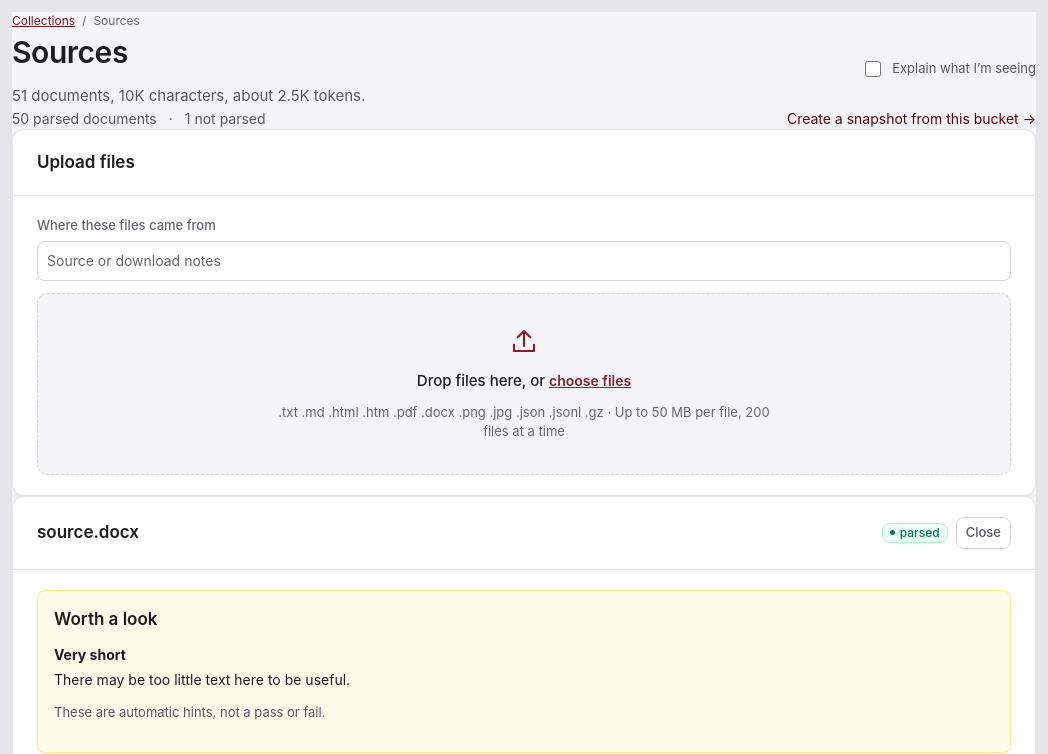
Test case: keeps counted zeroes visible and explains a quality flag
Expected: the text "There may be too little text here to be useful." is shown, [54, 671, 350, 688]
Click the checkbox labelled "Explain what I’m seeing".
click(873, 69)  # box [865, 61, 881, 77]
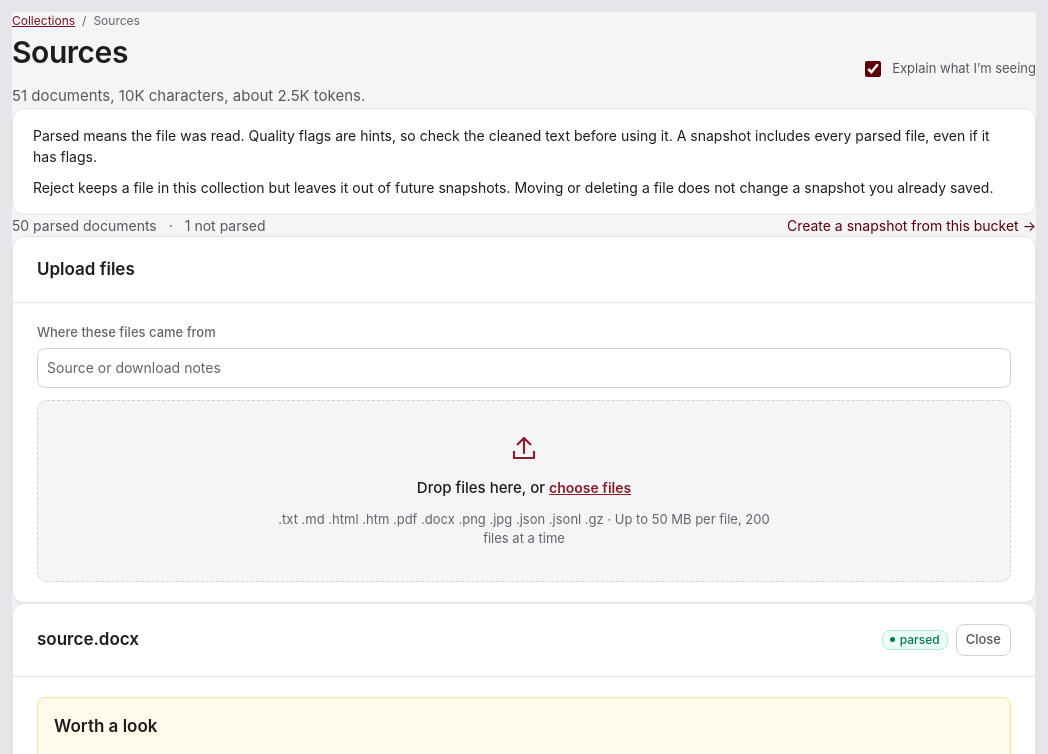
Result: the text "A snapshot includes every parsed file" is shown at [33, 126, 990, 164]
